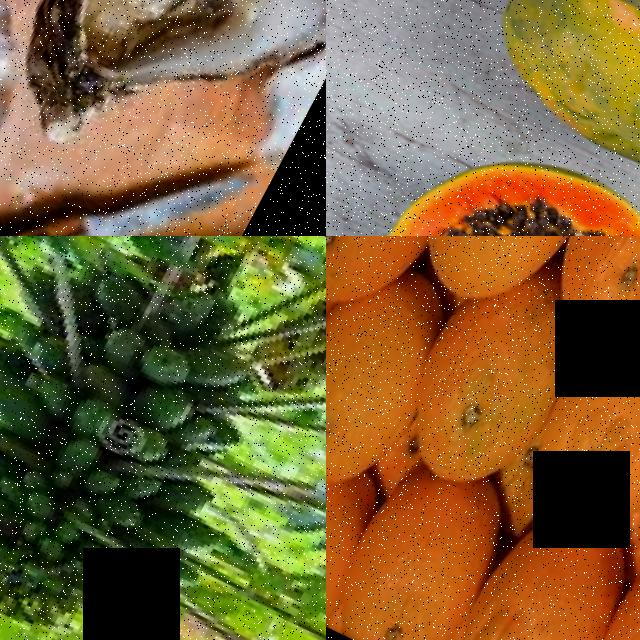orange: (389, 288, 586, 518), (326, 448, 523, 640), (505, 332, 640, 568), (434, 505, 640, 640), (387, 236, 640, 336), (326, 287, 438, 511), (525, 236, 640, 383), (326, 236, 471, 321), (559, 509, 640, 640), (326, 462, 374, 629)
oysters: (24, 0, 326, 230)
pawpaw: (457, 0, 640, 236), (348, 97, 640, 236)
